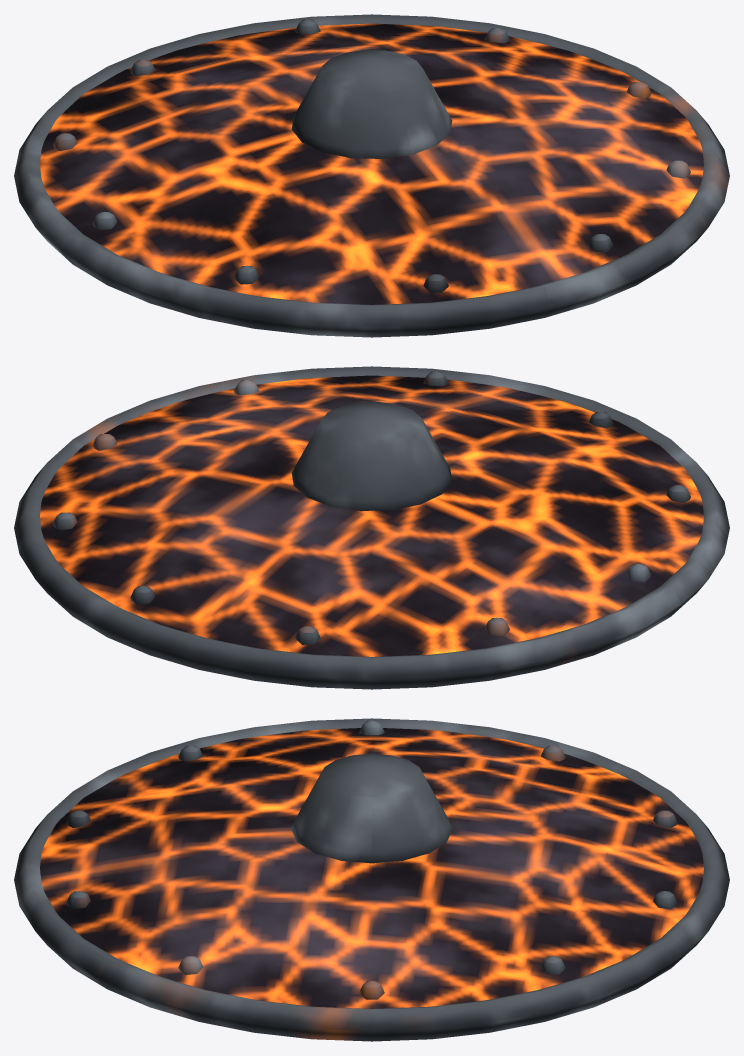
The model's file is EmberTarge.fbx.
3 views of the same model, one above another, from view 1: azimuth 30°, elevation 25°; view 2: azimuth 150°, elevation 25°; view 3: azimuth 270°, elevation 25° (orthographic).
Visible parts, largest first — view 1: EmberTarge; view 2: EmberTarge; view 3: EmberTarge.
Boxes of the visible parts, bbox=[...] form: EmberTarge: bbox=[14, 14, 729, 337]; EmberTarge: bbox=[14, 366, 729, 689]; EmberTarge: bbox=[14, 718, 729, 1041].
Size of the model in its own units: 0.558 by 0.1534 by 0.558.
